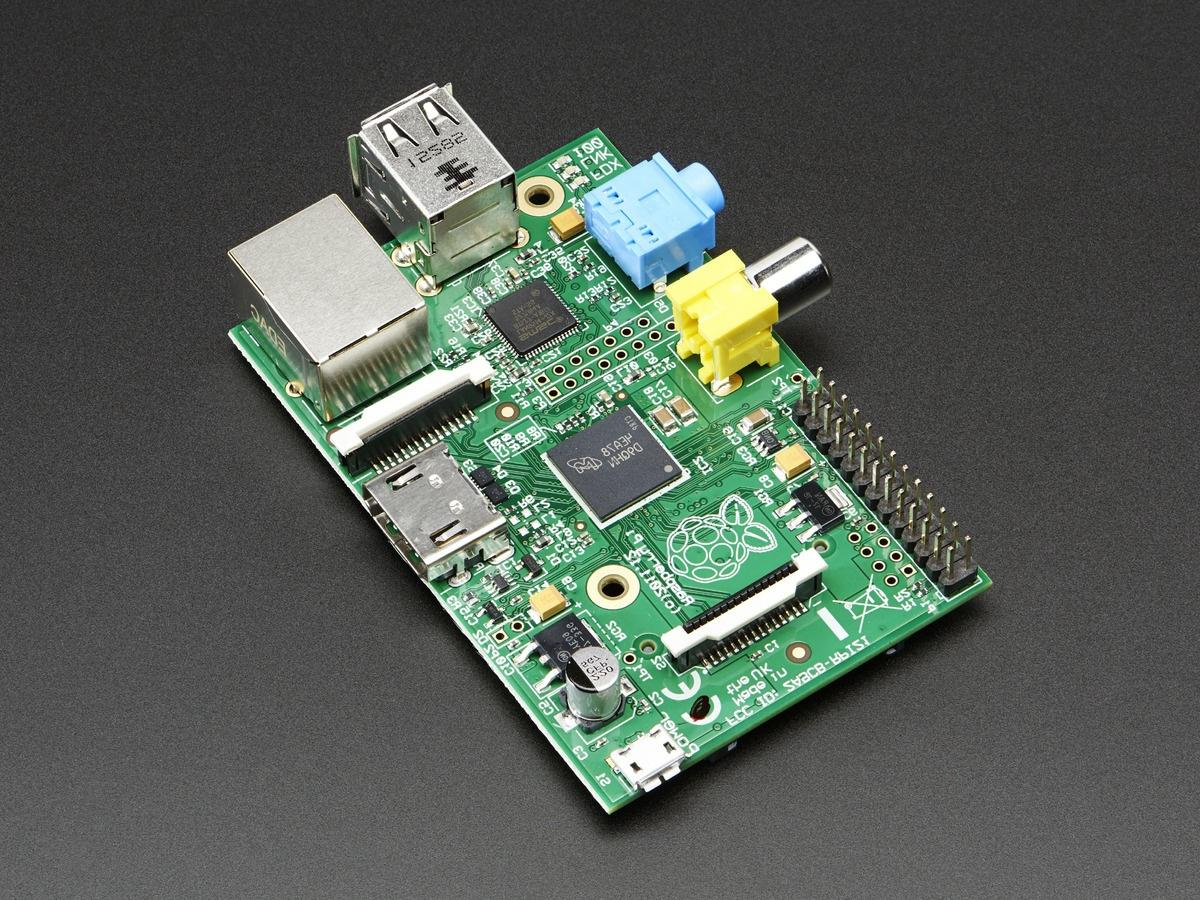audiojack: (665, 227, 837, 384)
bchi: (540, 404, 694, 519)
gpio: (789, 375, 981, 593)
